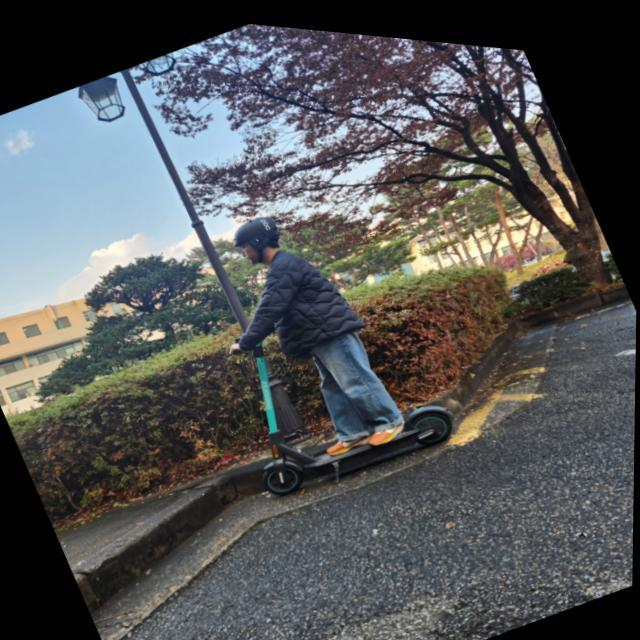Helmet: (229, 214, 283, 270)
